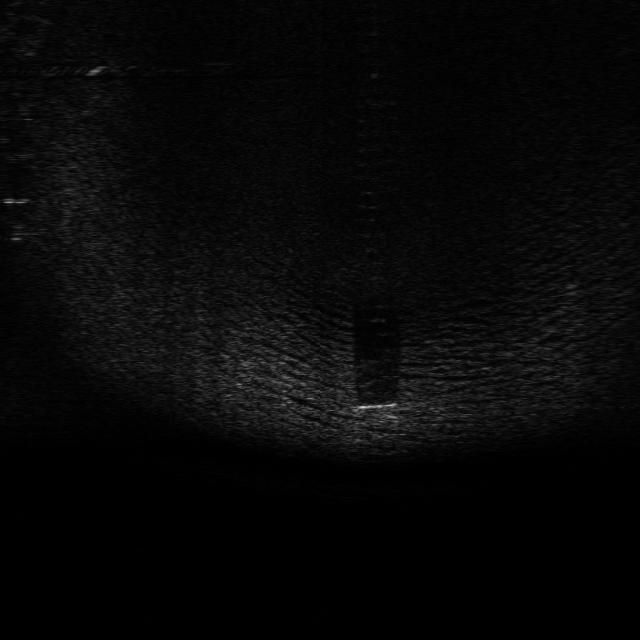cube: (349, 402, 403, 430)
